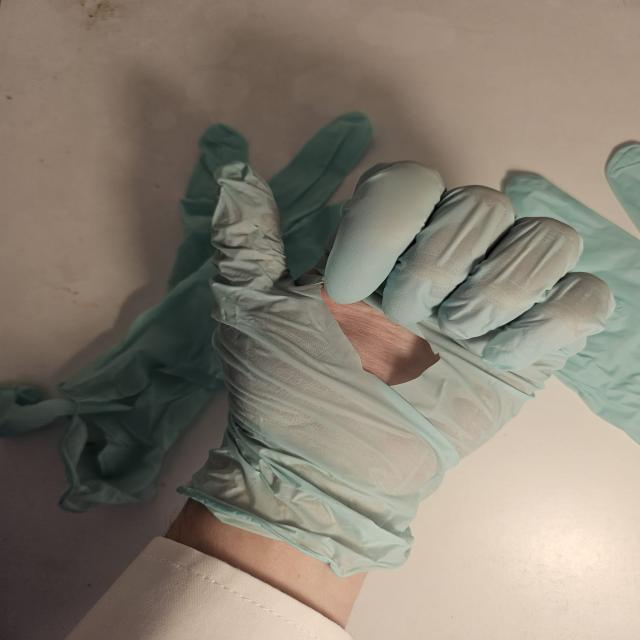gloves_damaged: (171, 156, 619, 577)
